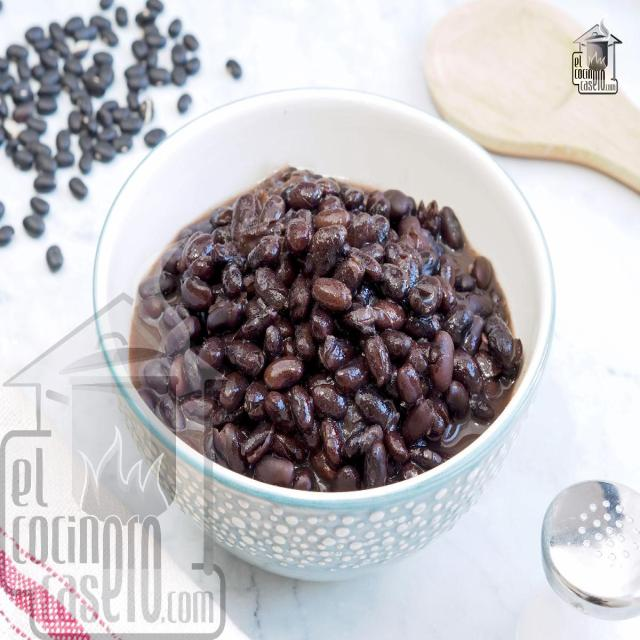frijoles: (127, 120, 530, 535)
